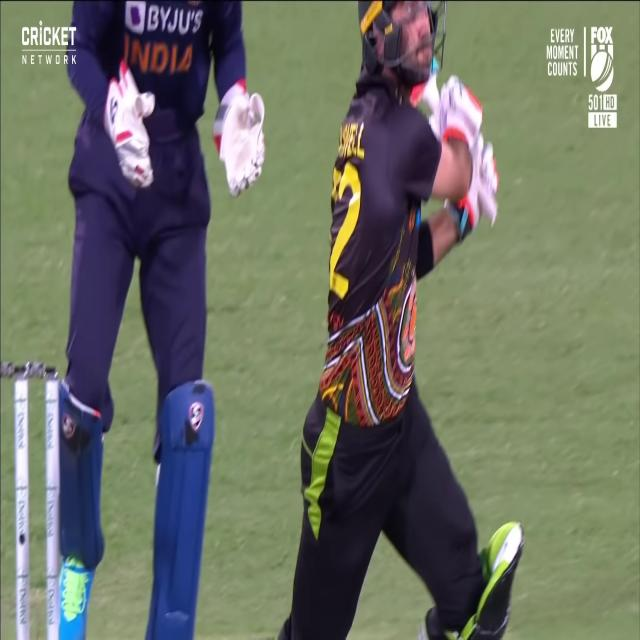stump: (10, 374, 55, 640)
